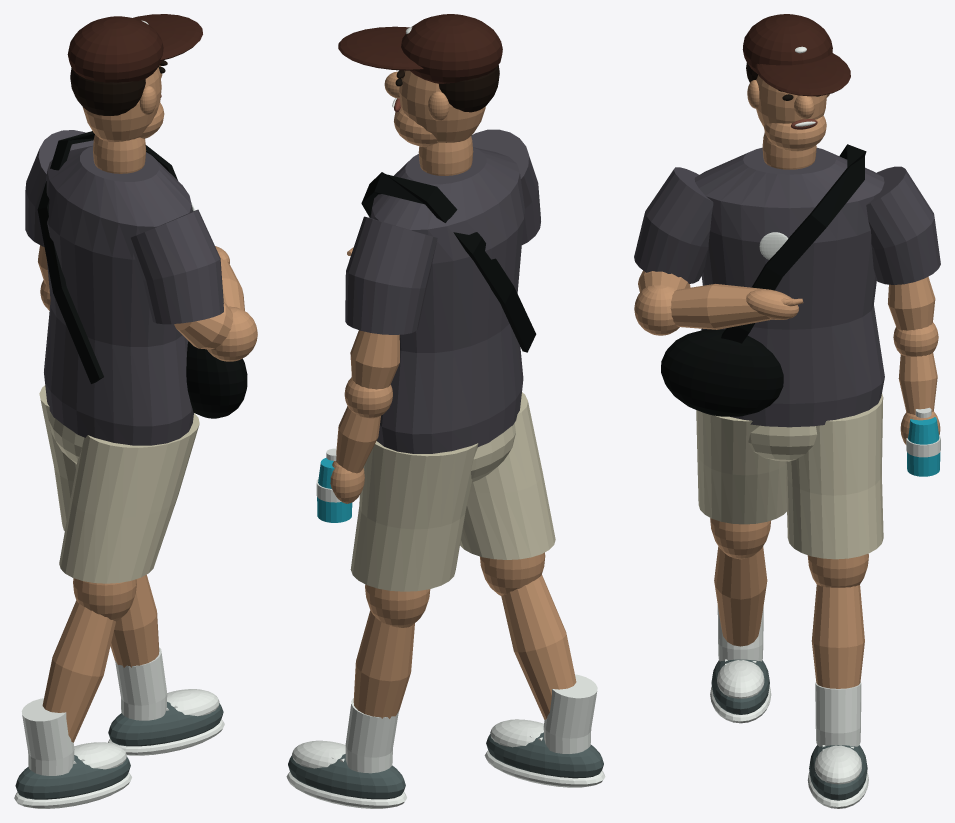
File: person.dae
The picture shows the model from 3 angles, left to right: view 1: azimuth 30°, elevation 25°; view 2: azimuth 150°, elevation 25°; view 3: azimuth 270°, elevation 25°; orthographic projection. The views are drawn at different scales.
Visible parts, largest first — view 1: Person; view 2: Person; view 3: Person.
Boxes of the visible parts, x1,y1,x2,y2 form: Person: (14,14,257,808); Person: (286,14,605,808); Person: (634,14,940,808).
Size of the model in its own units: 0.646 by 0.6917 by 1.83.
